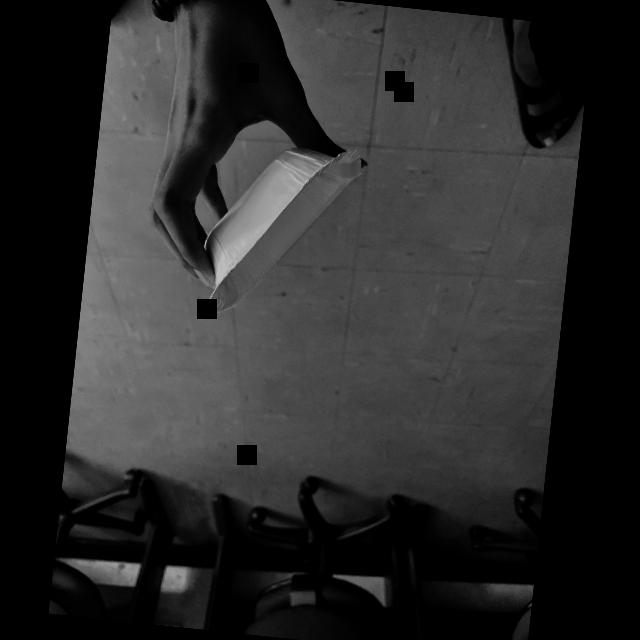cardboard_bowl: (187, 126, 368, 327)
